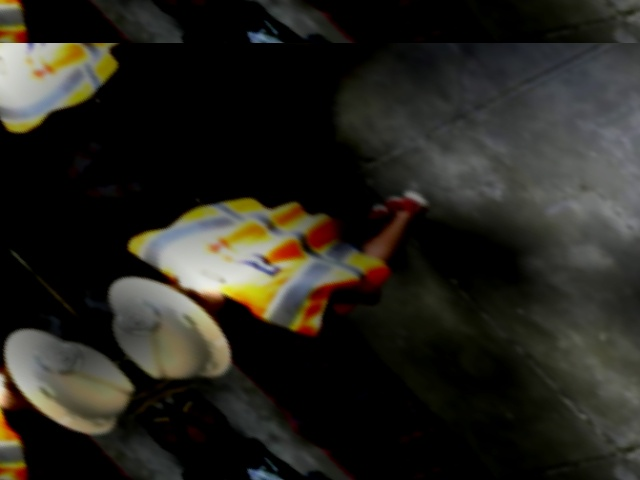three: (106, 294, 167, 339)
